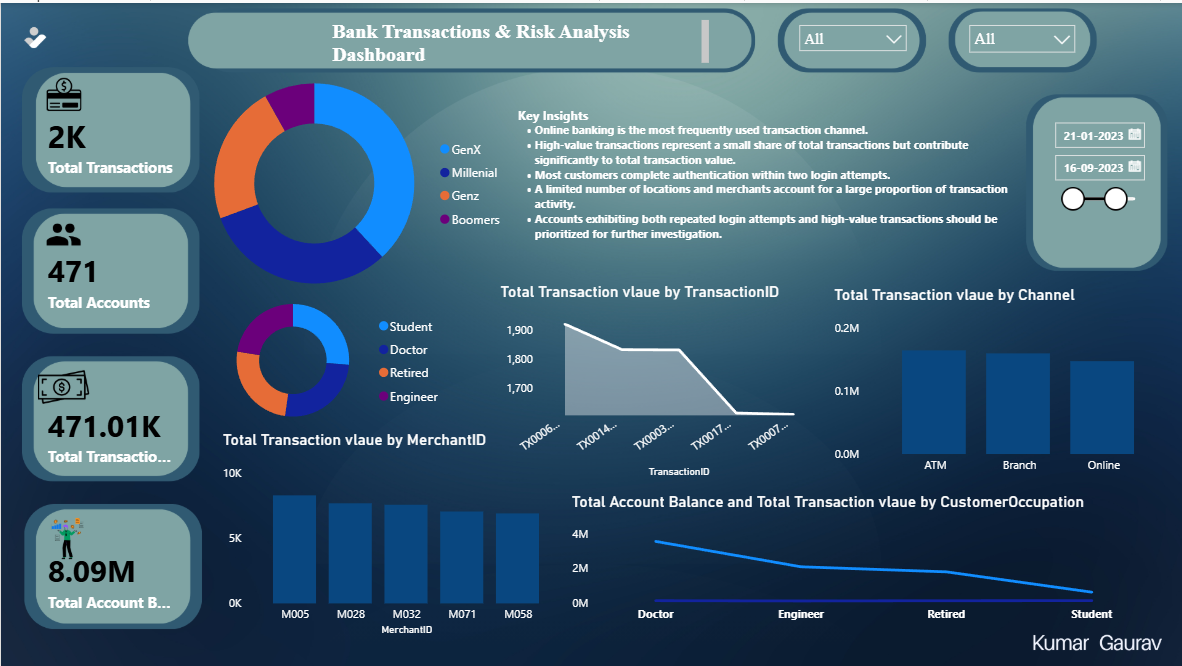

This screenshot's page, from the dashboard's own definition file:
{"tool":"powerbi","page":{"name":"Page 1","canvas":[1280,720],"ordinal":0},"visuals":[{"type":"cardVisual","fields":{"Data":["Measures (2).Total Transactions"]},"box":[21.6,106.8,197.4,96],"z":0},{"type":"cardVisual","fields":{"Data":["Measures (2).Total Transaction vlaue"]},"box":[21.6,417.7,197.4,100],"z":1000},{"type":"cardVisual","fields":{"Data":["Measures (2).Total Accounts"]},"box":[21.6,251.5,178.5,98.7],"z":2000},{"type":"donutChart","fields":{"Category":["cleaned dataset.Age Segment"],"Y":["Measures (2).Total Transaction vlaue"]},"box":[198.7,44.6,355.6,301.5],"z":3000},{"type":"donutChart","fields":{"Category":["cleaned dataset.CustomerOccupation"],"Y":["Measures (2).Total Transaction vlaue"]},"box":[219,305.5,267.7,162.2],"z":4000},{"type":"columnChart","fields":{"Y":["Measures (2).Total Transaction vlaue"],"Category":["cleaned dataset.MerchantID"]},"box":[235.2,462.4,377.6,226.8],"z":5000},{"type":"stackedAreaChart","fields":{"Category":["cleaned dataset.TransactionID"],"Y":["Measures (2).Total Transaction vlaue"]},"box":[535.4,301.5,351.5,216.3],"z":6000},{"type":"lineChart","fields":{"Category":["cleaned dataset.CustomerOccupation"],"Y":["Measures (2).Total Account Balance","Measures (2).Total Transaction vlaue"]},"box":[612.4,528.6,635.4,150.1],"z":7000},{"type":"cardVisual","fields":{"Data":["Measures (2).Total Account Balance"]},"box":[21.6,571.9,197.4,106.8],"z":8000},{"type":"slicer","fields":{"Values":["cleaned dataset.Age Segment"]},"box":[853.1,13.5,136.5,60.8],"z":9000},{"type":"slicer","fields":{"Values":["cleaned dataset.TransactionDate"]},"box":[1127.5,119,120.3,150.1],"z":10000},{"type":"slicer","fields":{"Values":["cleaned dataset.MerchantID"]},"box":[1036.9,13.5,135.2,48.7],"z":11000},{"type":"textbox","box":[352.9,13.5,417.7,58.1],"z":12000},{"type":"clusteredColumnChart","fields":{"Y":["Measures (2).Total Transaction vlaue"],"Category":["cleaned dataset.Channel"]},"box":[896.3,305.5,374.5,212.3],"z":12001},{"type":"textbox","box":[554.3,106.8,550.2,205.5],"z":12002}]}

Visuals, with their boxes in screenshot pixels (x1, y1, x2, y2), scaled from the page's 1280x720 canvas onto the 1182x666 screenshot:
cardVisual - Measures (2).Total Transactions: bbox=(20, 99, 202, 188)
cardVisual - Measures (2).Total Transaction vlaue: bbox=(20, 386, 202, 479)
cardVisual - Measures (2).Total Accounts: bbox=(20, 233, 185, 324)
donutChart - cleaned dataset.Age Segment x Measures (2).Total Transaction vlaue: bbox=(183, 41, 512, 320)
donutChart - cleaned dataset.CustomerOccupation x Measures (2).Total Transaction vlaue: bbox=(202, 283, 449, 433)
columnChart - Measures (2).Total Transaction vlaue x cleaned dataset.MerchantID: bbox=(217, 428, 566, 638)
stackedAreaChart - cleaned dataset.TransactionID x Measures (2).Total Transaction vlaue: bbox=(494, 279, 819, 479)
lineChart - cleaned dataset.CustomerOccupation x Measures (2).Total Account Balance: bbox=(566, 489, 1152, 628)
cardVisual - Measures (2).Total Account Balance: bbox=(20, 529, 202, 628)
slicer - cleaned dataset.Age Segment: bbox=(788, 12, 914, 69)
slicer - cleaned dataset.TransactionDate: bbox=(1041, 110, 1152, 249)
slicer - cleaned dataset.MerchantID: bbox=(958, 12, 1082, 58)
textbox: bbox=(326, 12, 712, 66)
clusteredColumnChart - Measures (2).Total Transaction vlaue x cleaned dataset.Channel: bbox=(828, 283, 1174, 479)
textbox: bbox=(512, 99, 1020, 289)
